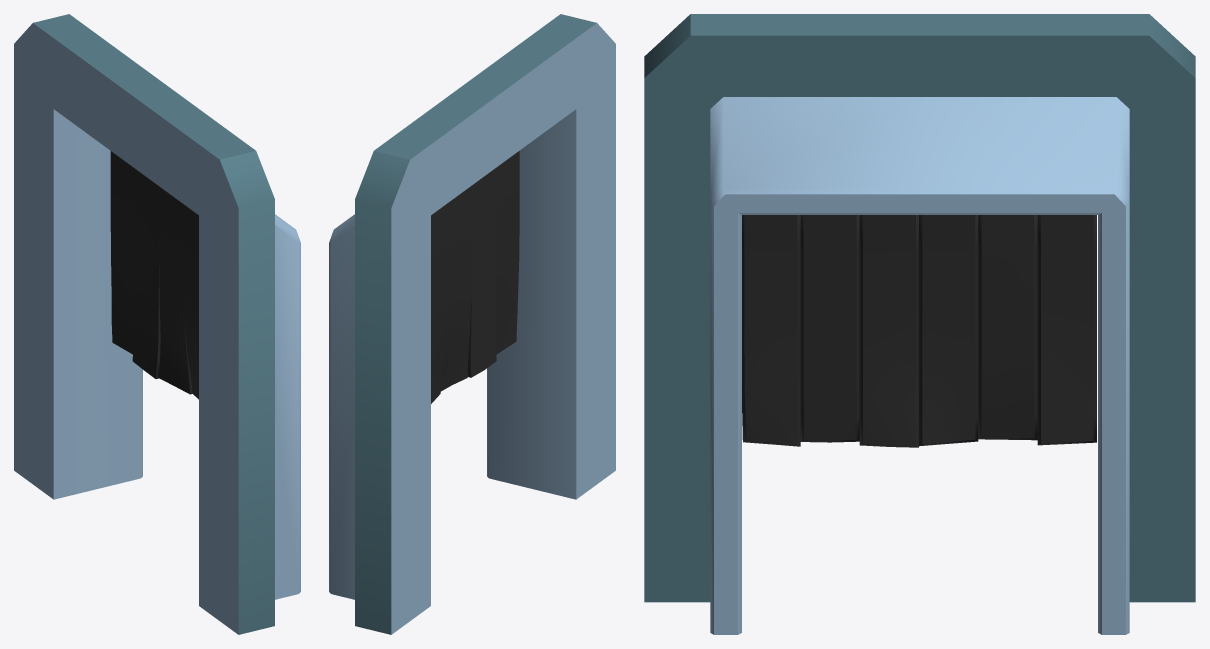
Rendered from 12_1_BaggageClaimBand_AIRPORT_0.obj.
The picture shows the model from 3 angles, left to right: view 1: azimuth 30°, elevation 25°; view 2: azimuth 150°, elevation 25°; view 3: azimuth 270°, elevation 25°; orthographic projection. The views are drawn at different scales.
Visible parts, largest first — view 1: 12.1.BaggageClaimBand_AIRPORT_0; view 2: 12.1.BaggageClaimBand_AIRPORT_0; view 3: 12.1.BaggageClaimBand_AIRPORT_0.
Part boxes in pixels (bbox=[...]): 12.1.BaggageClaimBand_AIRPORT_0: bbox=[14, 14, 300, 634]; 12.1.BaggageClaimBand_AIRPORT_0: bbox=[329, 14, 615, 634]; 12.1.BaggageClaimBand_AIRPORT_0: bbox=[644, 14, 1195, 634].
Bounding box in the file's own units: 0.6198 × 3.01 × 2.66.
1 material, 1 textured.
